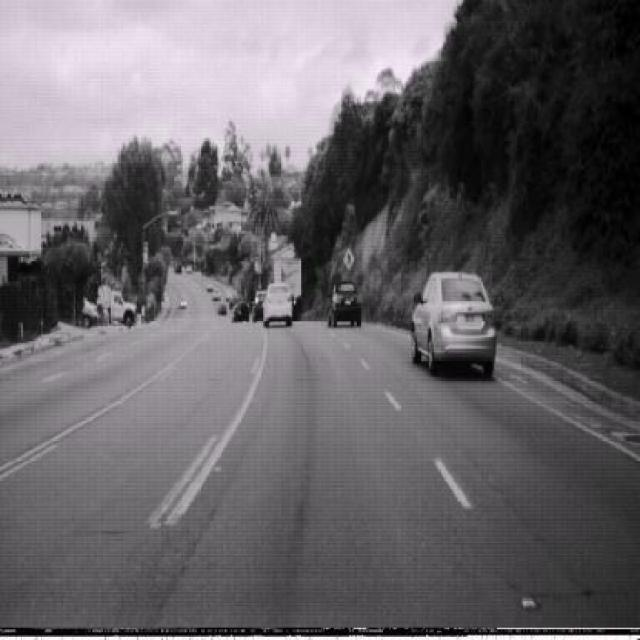pedestrianCrossing: (343, 245, 355, 272)
